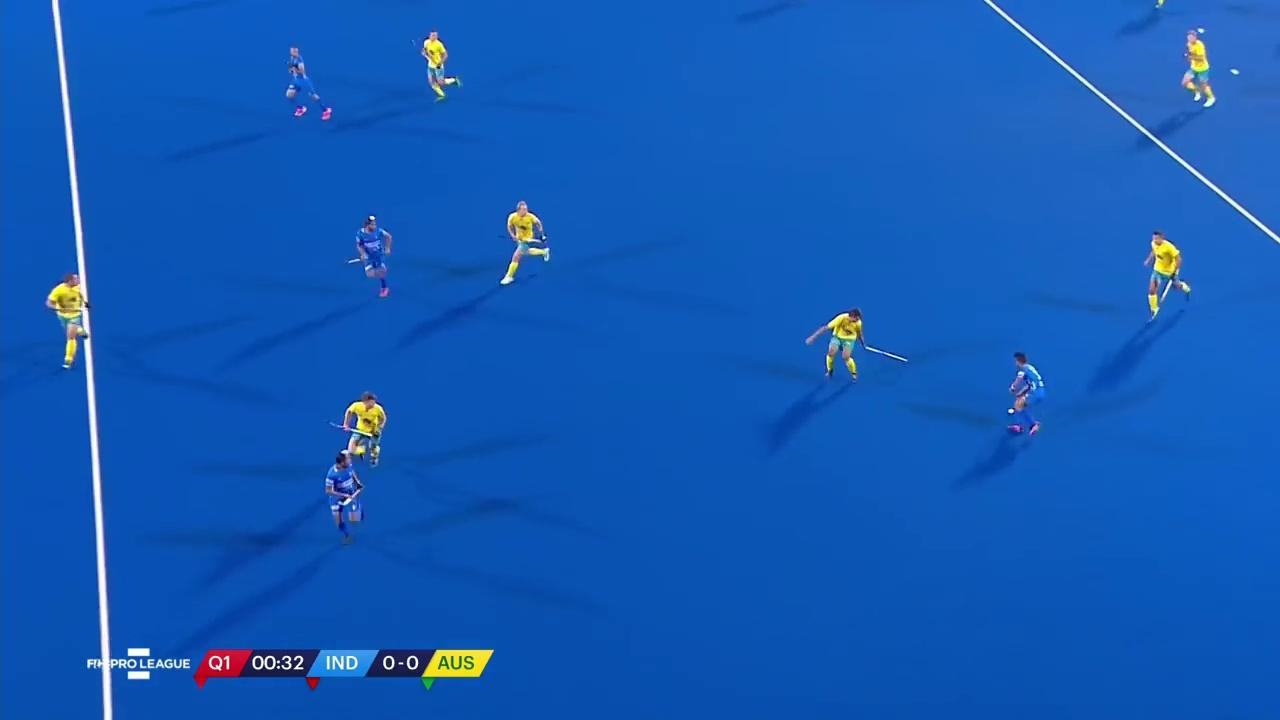ball: (1004, 402, 1021, 417)
